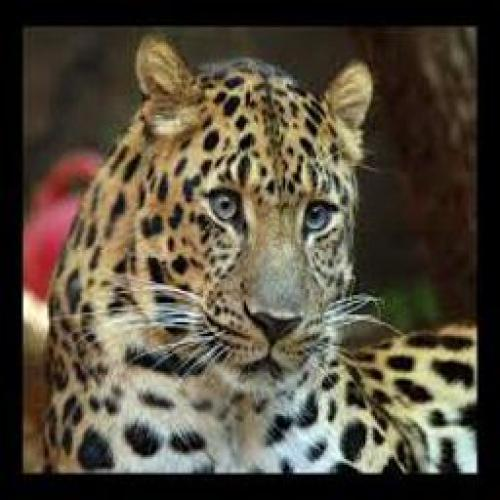amur_leopard-endangered: (50, 32, 468, 467)
